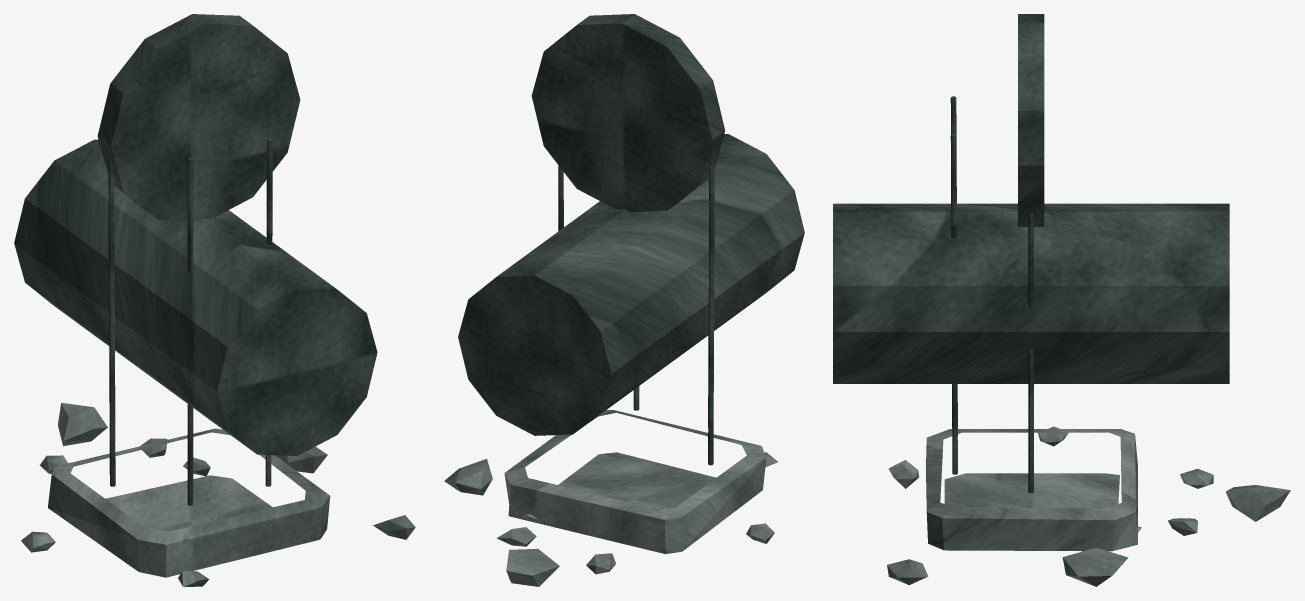
Rendered from 0253_broken_column_03.glb.
3 views of the same model, side by side, from view 1: azimuth 30°, elevation 25°; view 2: azimuth 150°, elevation 25°; view 3: azimuth 270°, elevation 25° (orthographic). The views are drawn at different scales.
Parts seen in each view (by area): view 1: stone_dark, stone; view 2: stone_dark, stone; view 3: stone_dark, stone.
Part boxes in pixels (x1,y1,x2,y2): stone_dark: [14, 14, 377, 505]; stone: [21, 402, 415, 586]; stone_dark: [458, 14, 804, 465]; stone: [444, 410, 777, 586]; stone_dark: [833, 14, 1229, 493]; stone: [887, 426, 1290, 586].
Bounding box in the file's own units: 2.02 × 3.11 × 2.61.
2 materials, 2 textured.
